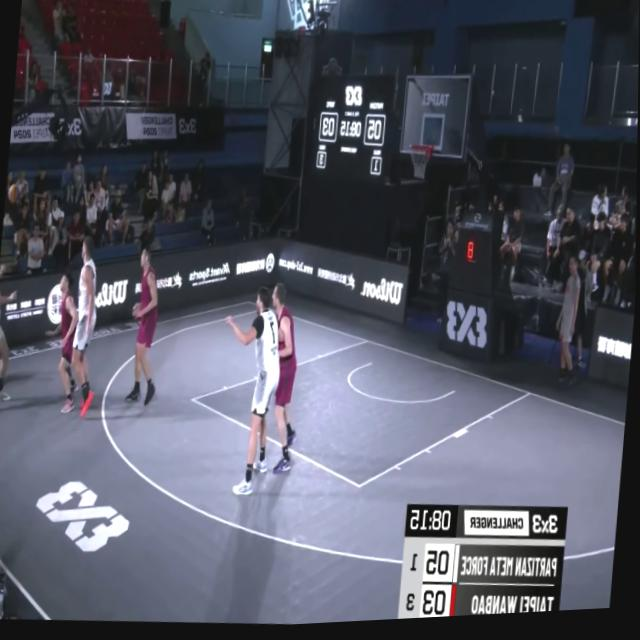hoop: (406, 144, 435, 187)
player: (202, 287, 288, 515), (260, 284, 309, 480), (122, 239, 166, 413), (66, 235, 105, 420), (40, 269, 88, 417), (0, 250, 24, 413)
